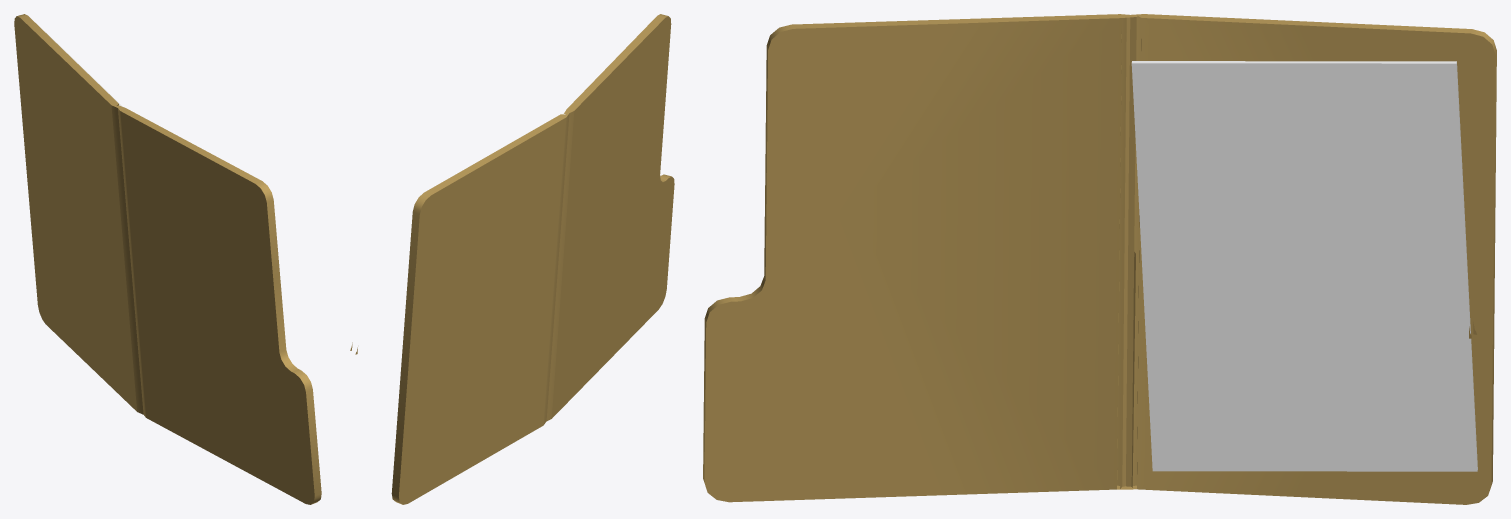
File: folder.glb
3 views of the same model, side by side, from view 1: azimuth 30°, elevation 25°; view 2: azimuth 150°, elevation 25°; view 3: azimuth 270°, elevation 25° (orthographic). The views are drawn at different scales.
Visible parts, largest first — view 1: Object_30; view 2: Object_30; view 3: Object_30, Object_34.004.
Part boxes in pixels (left/top/right/bottom): Object_30: left=14, top=14, right=321, bottom=504; Object_30: left=350, top=14, right=674, bottom=504; Object_30: left=703, top=14, right=1496, bottom=504; Object_34.004: left=1131, top=61, right=1477, bottom=471.
Bounding box in the file's own units: 0.0713 × 0.2132 × 0.3325.
